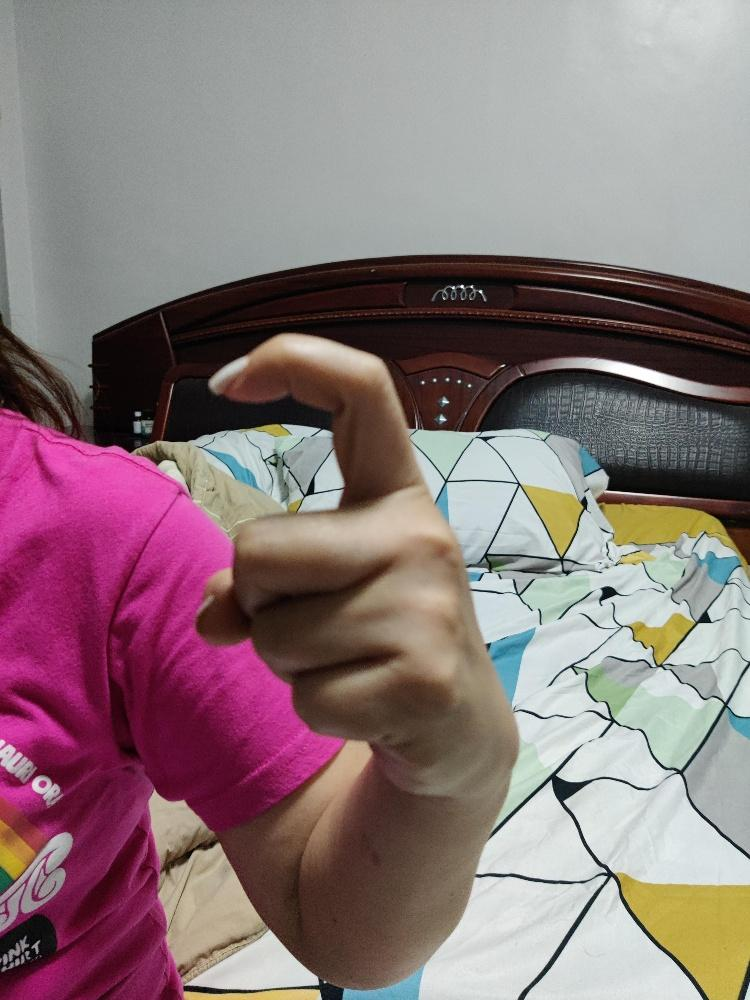x: (188, 329, 518, 794)
